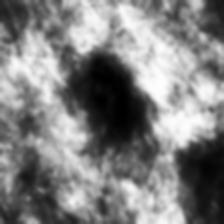Potentially Malignant Skin Tumors: (94, 64, 146, 130)
